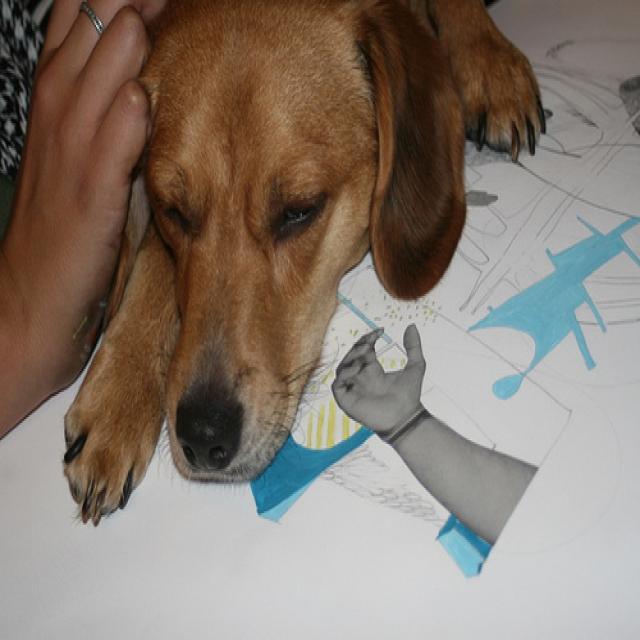dog-beagle: (58, 2, 554, 536)
